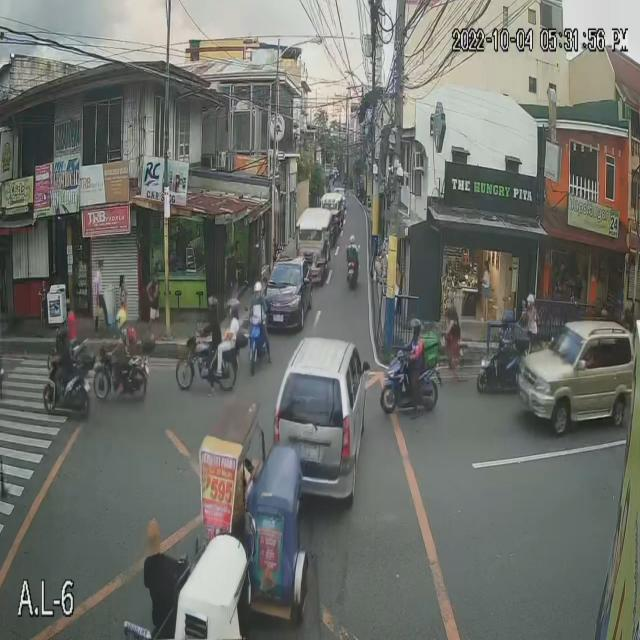full: (112, 304, 128, 331)
half: (409, 315, 422, 340), (226, 300, 240, 322), (252, 281, 263, 301)
